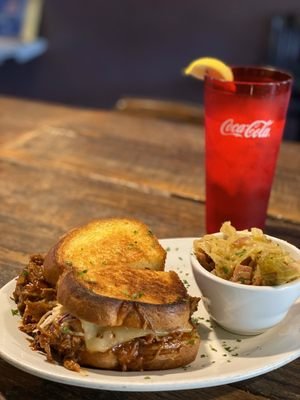pizza: (189, 61, 294, 235)
soup: (13, 217, 206, 372)
sushi: (189, 223, 300, 335)
